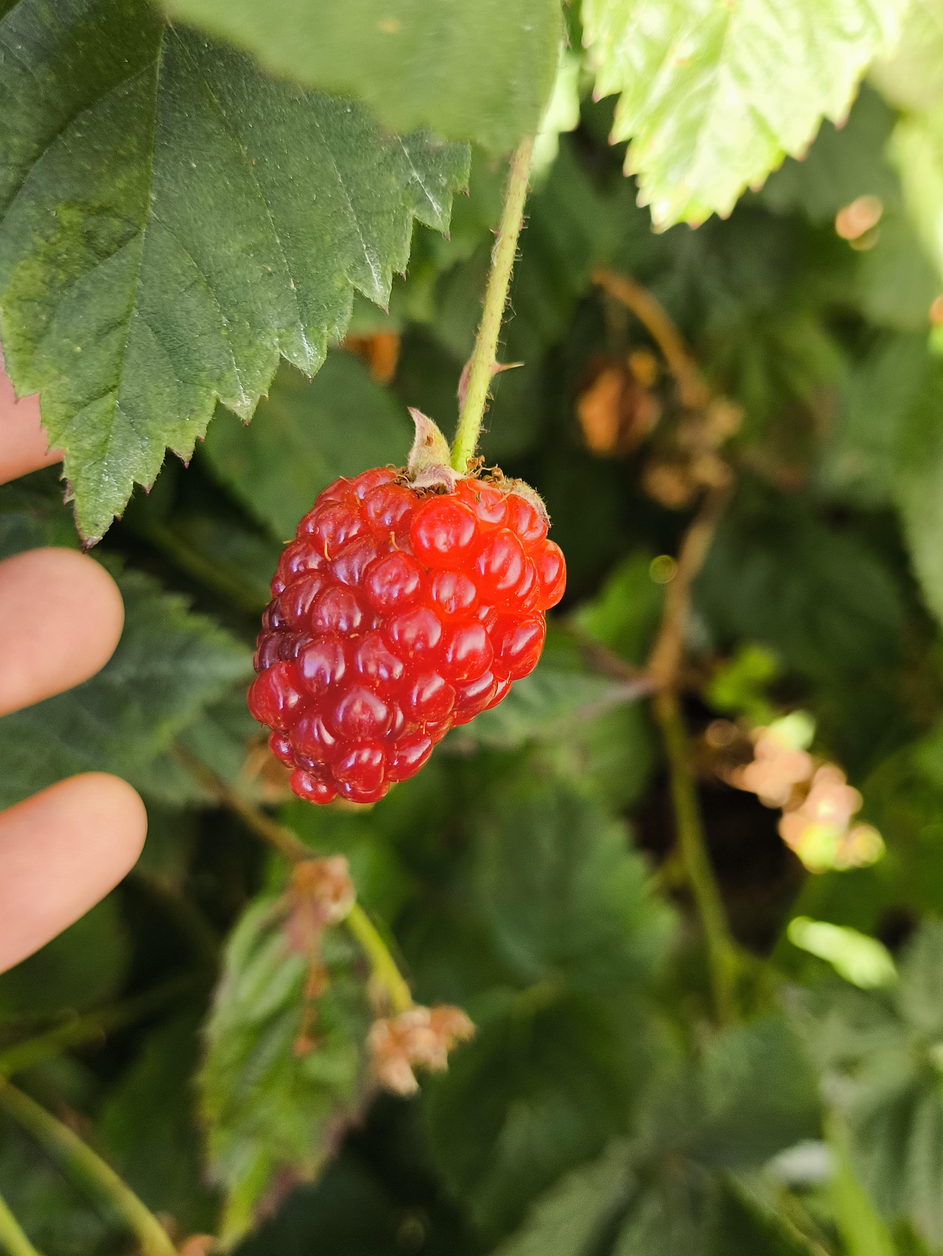naranja: (257, 467, 568, 804)
